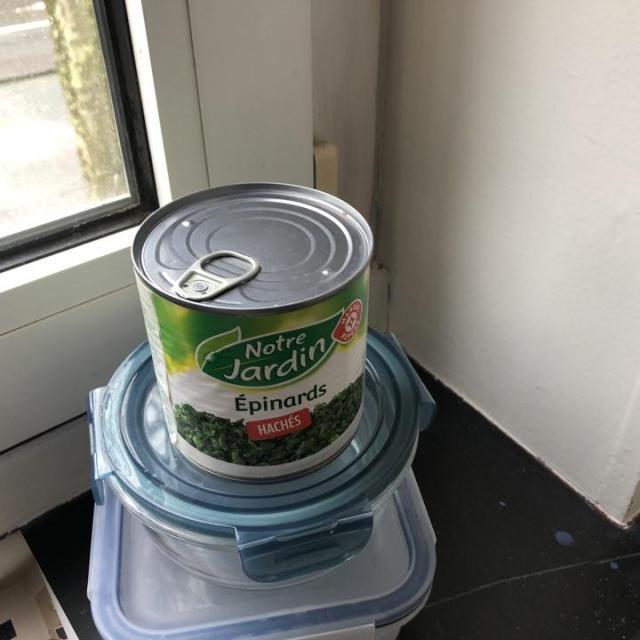recyclable: (130, 176, 376, 486)
